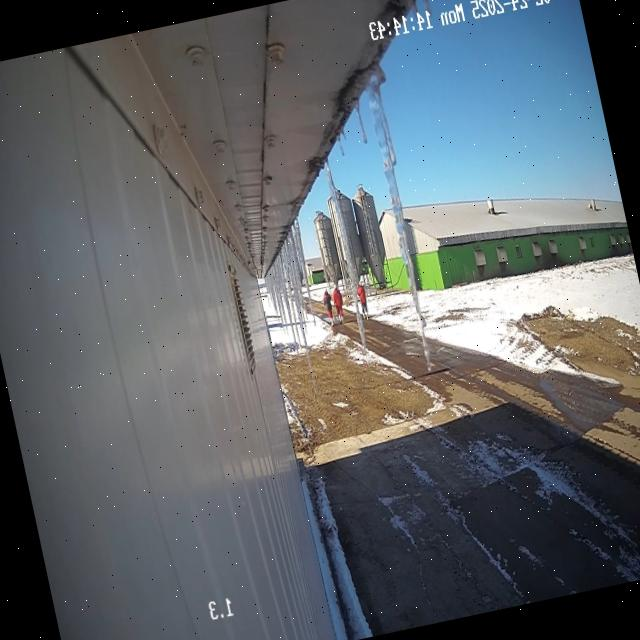Red uniform: (357, 277, 368, 319), (333, 286, 343, 323), (323, 289, 332, 324)
